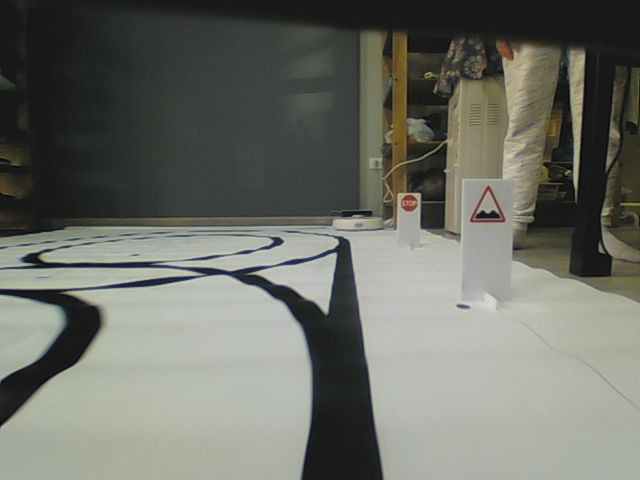Nerov: (469, 183, 506, 224)
Stop: (401, 195, 418, 211)
